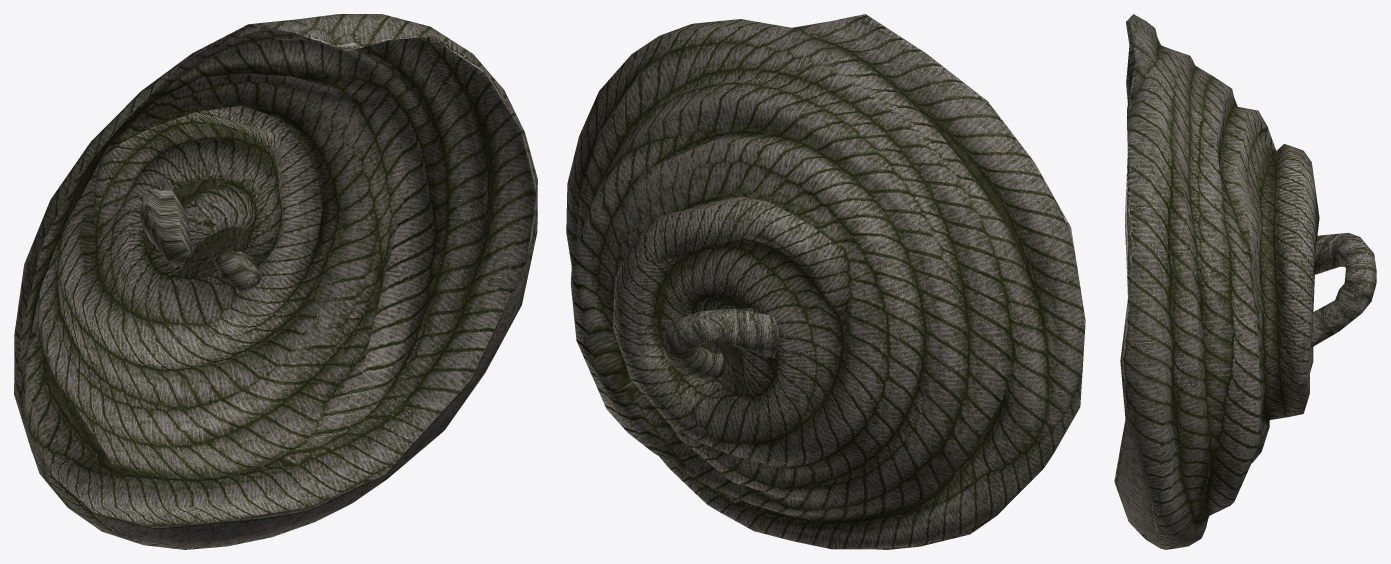
The model's file is TI_Rope_01.fbx.
3 views of the same model, side by side, from view 1: azimuth 30°, elevation 25°; view 2: azimuth 150°, elevation 25°; view 3: azimuth 270°, elevation 25° (orthographic). The views are drawn at different scales.
Visible parts, largest first — view 1: TI_Rope_01; view 2: TI_Rope_01; view 3: TI_Rope_01.
Part boxes in pixels (x1,y1,x2,y2): TI_Rope_01: (14, 14, 537, 549); TI_Rope_01: (566, 14, 1085, 549); TI_Rope_01: (1114, 14, 1376, 549).
Bounding box in the file's own units: 1.34 × 1.3 × 0.6382.
